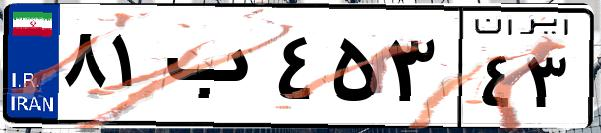1: (110, 28, 158, 98)
3: (385, 28, 445, 110), (525, 38, 570, 115)
4: (270, 28, 330, 110), (475, 38, 525, 113)
5: (330, 28, 385, 110)
8: (57, 26, 110, 100)
ب: (158, 20, 270, 120)
